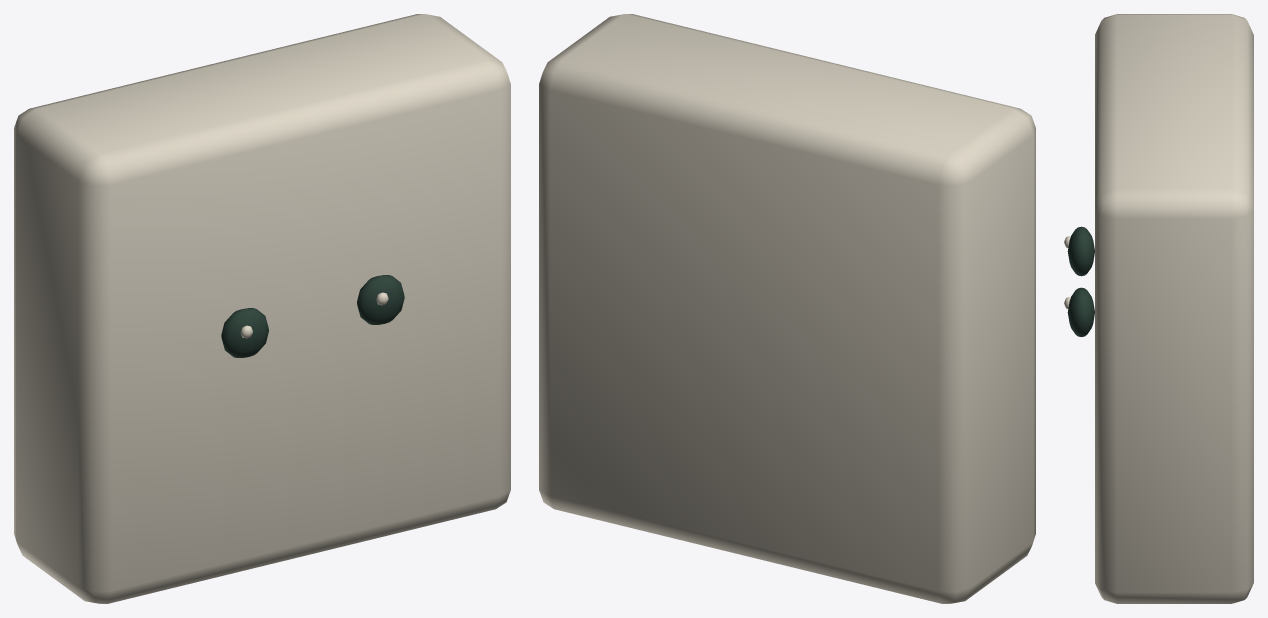
File: shape_square.glb
3 renders of one model, left to right at view 1: azimuth 30°, elevation 25°; view 2: azimuth 150°, elevation 25°; view 3: azimuth 270°, elevation 25°, orthographic. The views are drawn at different scales.
Visible parts, largest first — view 1: color_body, body; view 2: color_body; view 3: color_body, body.
Part boxes in pixels (x1,y1,x2,y2): color_body: (14, 14, 510, 603); body: (221, 275, 404, 357); color_body: (539, 14, 1035, 603); color_body: (1095, 14, 1253, 603); body: (1064, 226, 1094, 336).
Bounding box in the file's own units: 0.9192 × 0.9192 × 0.382.
